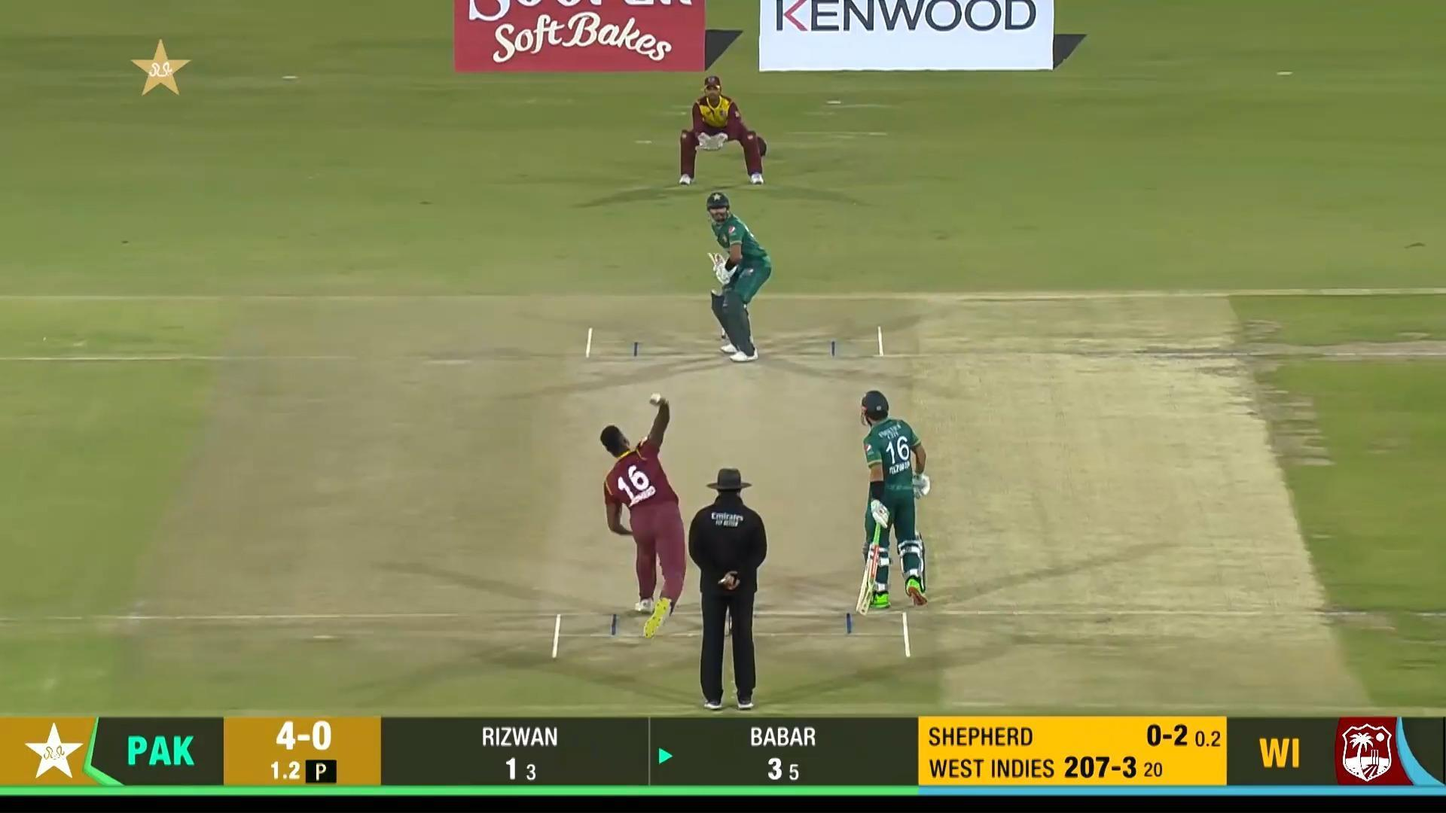BM 1: (706, 191, 773, 364)
BO: (600, 396, 689, 640)
